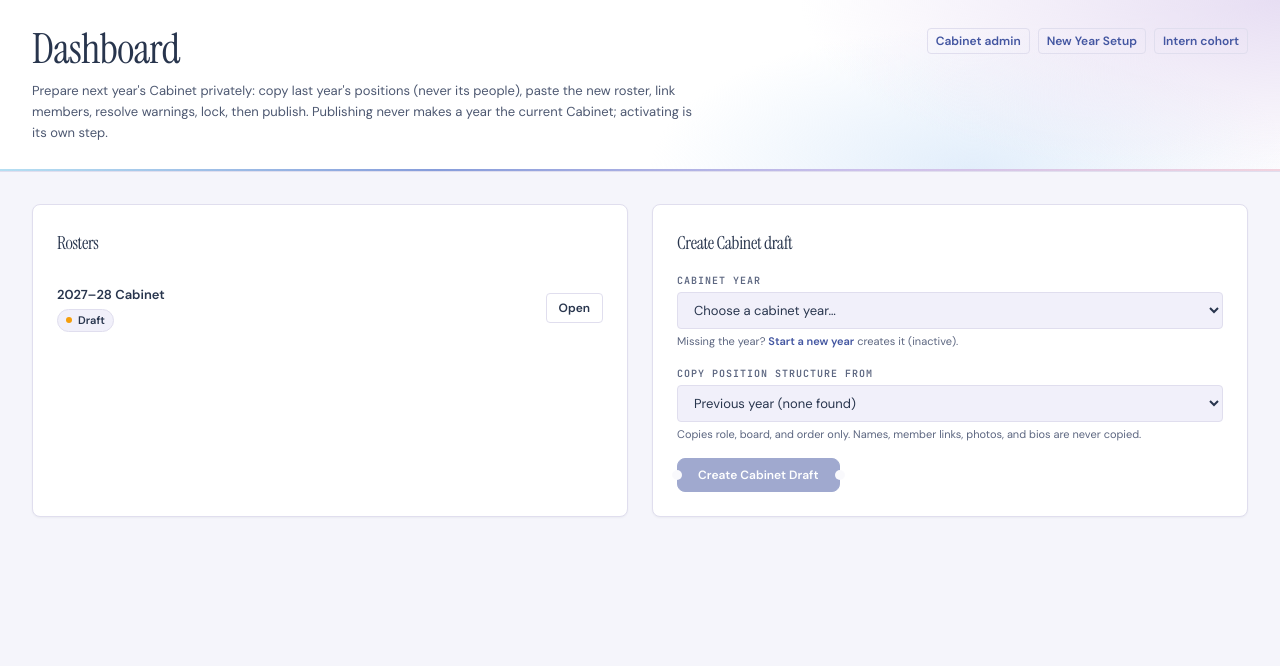
Scenario: blocks locking while a position is empty or a member is linked twice
Click the button "Open" at (574, 308), box [546, 293, 603, 323]
(page scrolled)
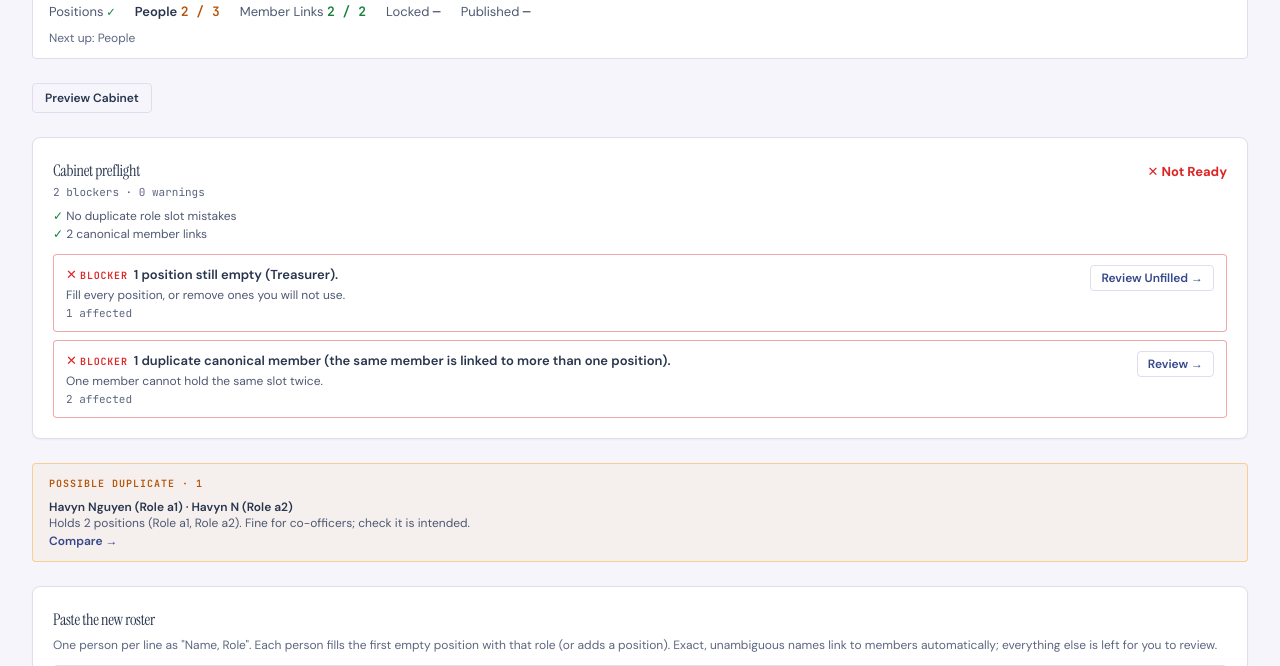
Check: the text "1 position still empty (Treasurer)." is shown, box [134, 266, 338, 283]
Check: the text "duplicate canonical member" is shown, box [134, 352, 671, 369]
